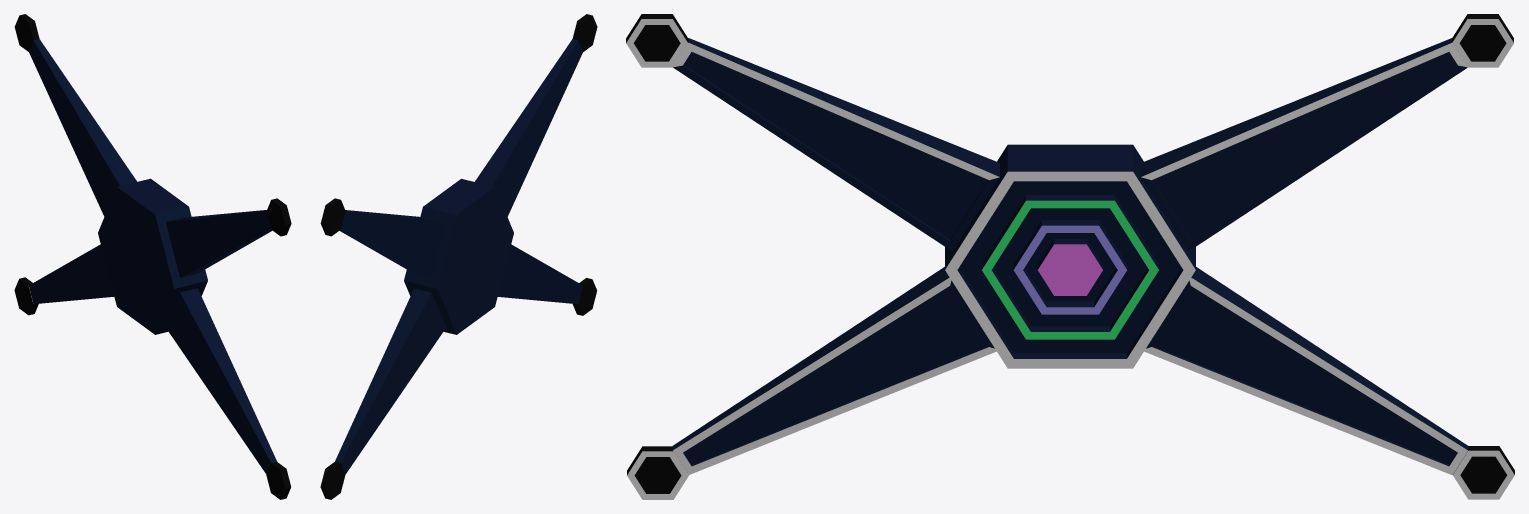
File: CS 4483 EMP Drone Final.fbx
3 renders of one model, left to right at view 1: azimuth 30°, elevation 25°; view 2: azimuth 150°, elevation 25°; view 3: azimuth 270°, elevation 25°, orthographic. The views are drawn at different scales.
Visible parts, largest first — view 1: Cylinder.001; view 2: Cylinder.001; view 3: Cylinder.001.
Boxes of the visible parts, bbox=[...] form: Cylinder.001: bbox=[14, 14, 291, 499]; Cylinder.001: bbox=[320, 14, 597, 499]; Cylinder.001: bbox=[626, 14, 1514, 499].
Size of the model in its own units: 51 by 423 by 709.
